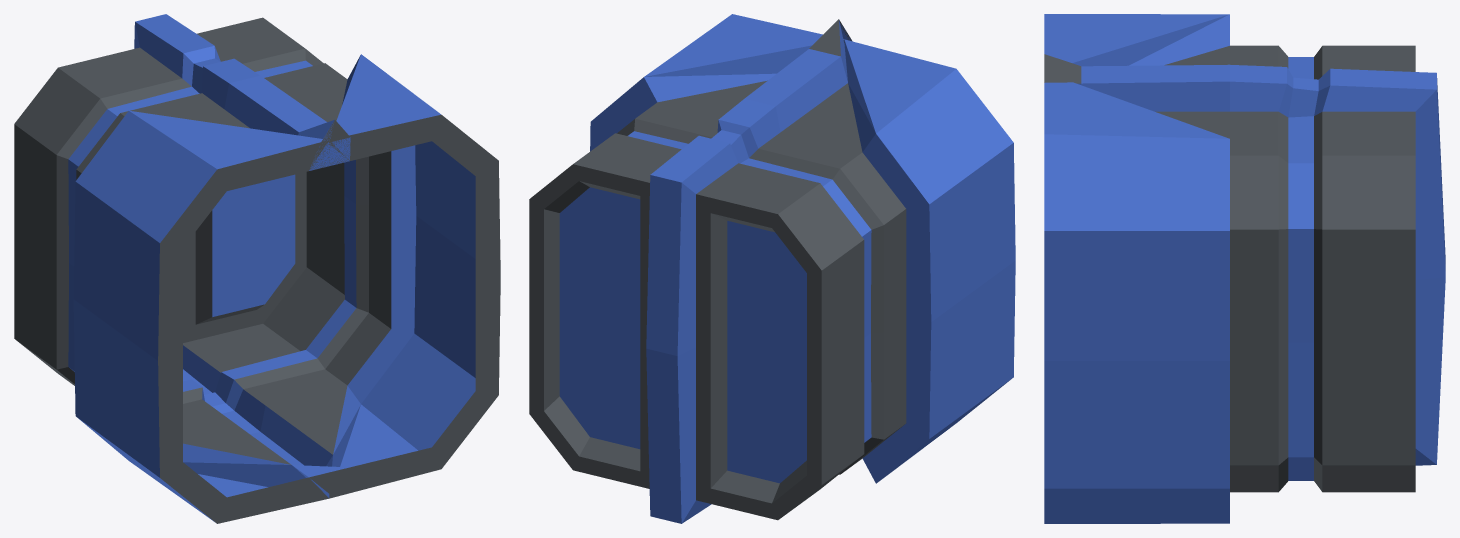
Rendered from Mothership_02_Junction_Blue.fbx.
The picture shows the model from 3 angles, left to right: view 1: azimuth 30°, elevation 25°; view 2: azimuth 150°, elevation 25°; view 3: azimuth 270°, elevation 25°; orthographic projection. The views are drawn at different scales.
Visible parts, largest first — view 1: Mothership_02_Junction_Blue; view 2: Mothership_02_Junction_Blue; view 3: Mothership_02_Junction_Blue.
Boxes of the visible parts, left/top/right/bottom form: Mothership_02_Junction_Blue: left=14, top=14, right=500, bottom=523; Mothership_02_Junction_Blue: left=529, top=14, right=1015, bottom=523; Mothership_02_Junction_Blue: left=1044, top=14, right=1445, bottom=523.
Size of the model in its own units: 508 by 546 by 469.
Materials: 1 (1 with a texture image).
